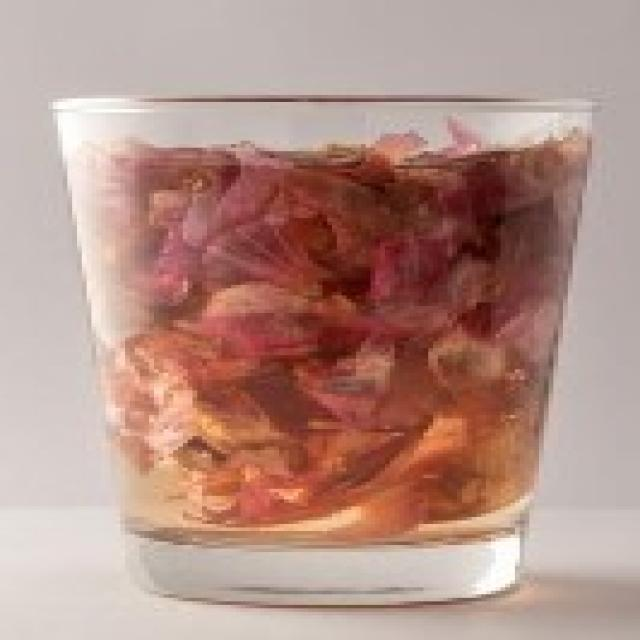electronic: (55, 92, 603, 610)
